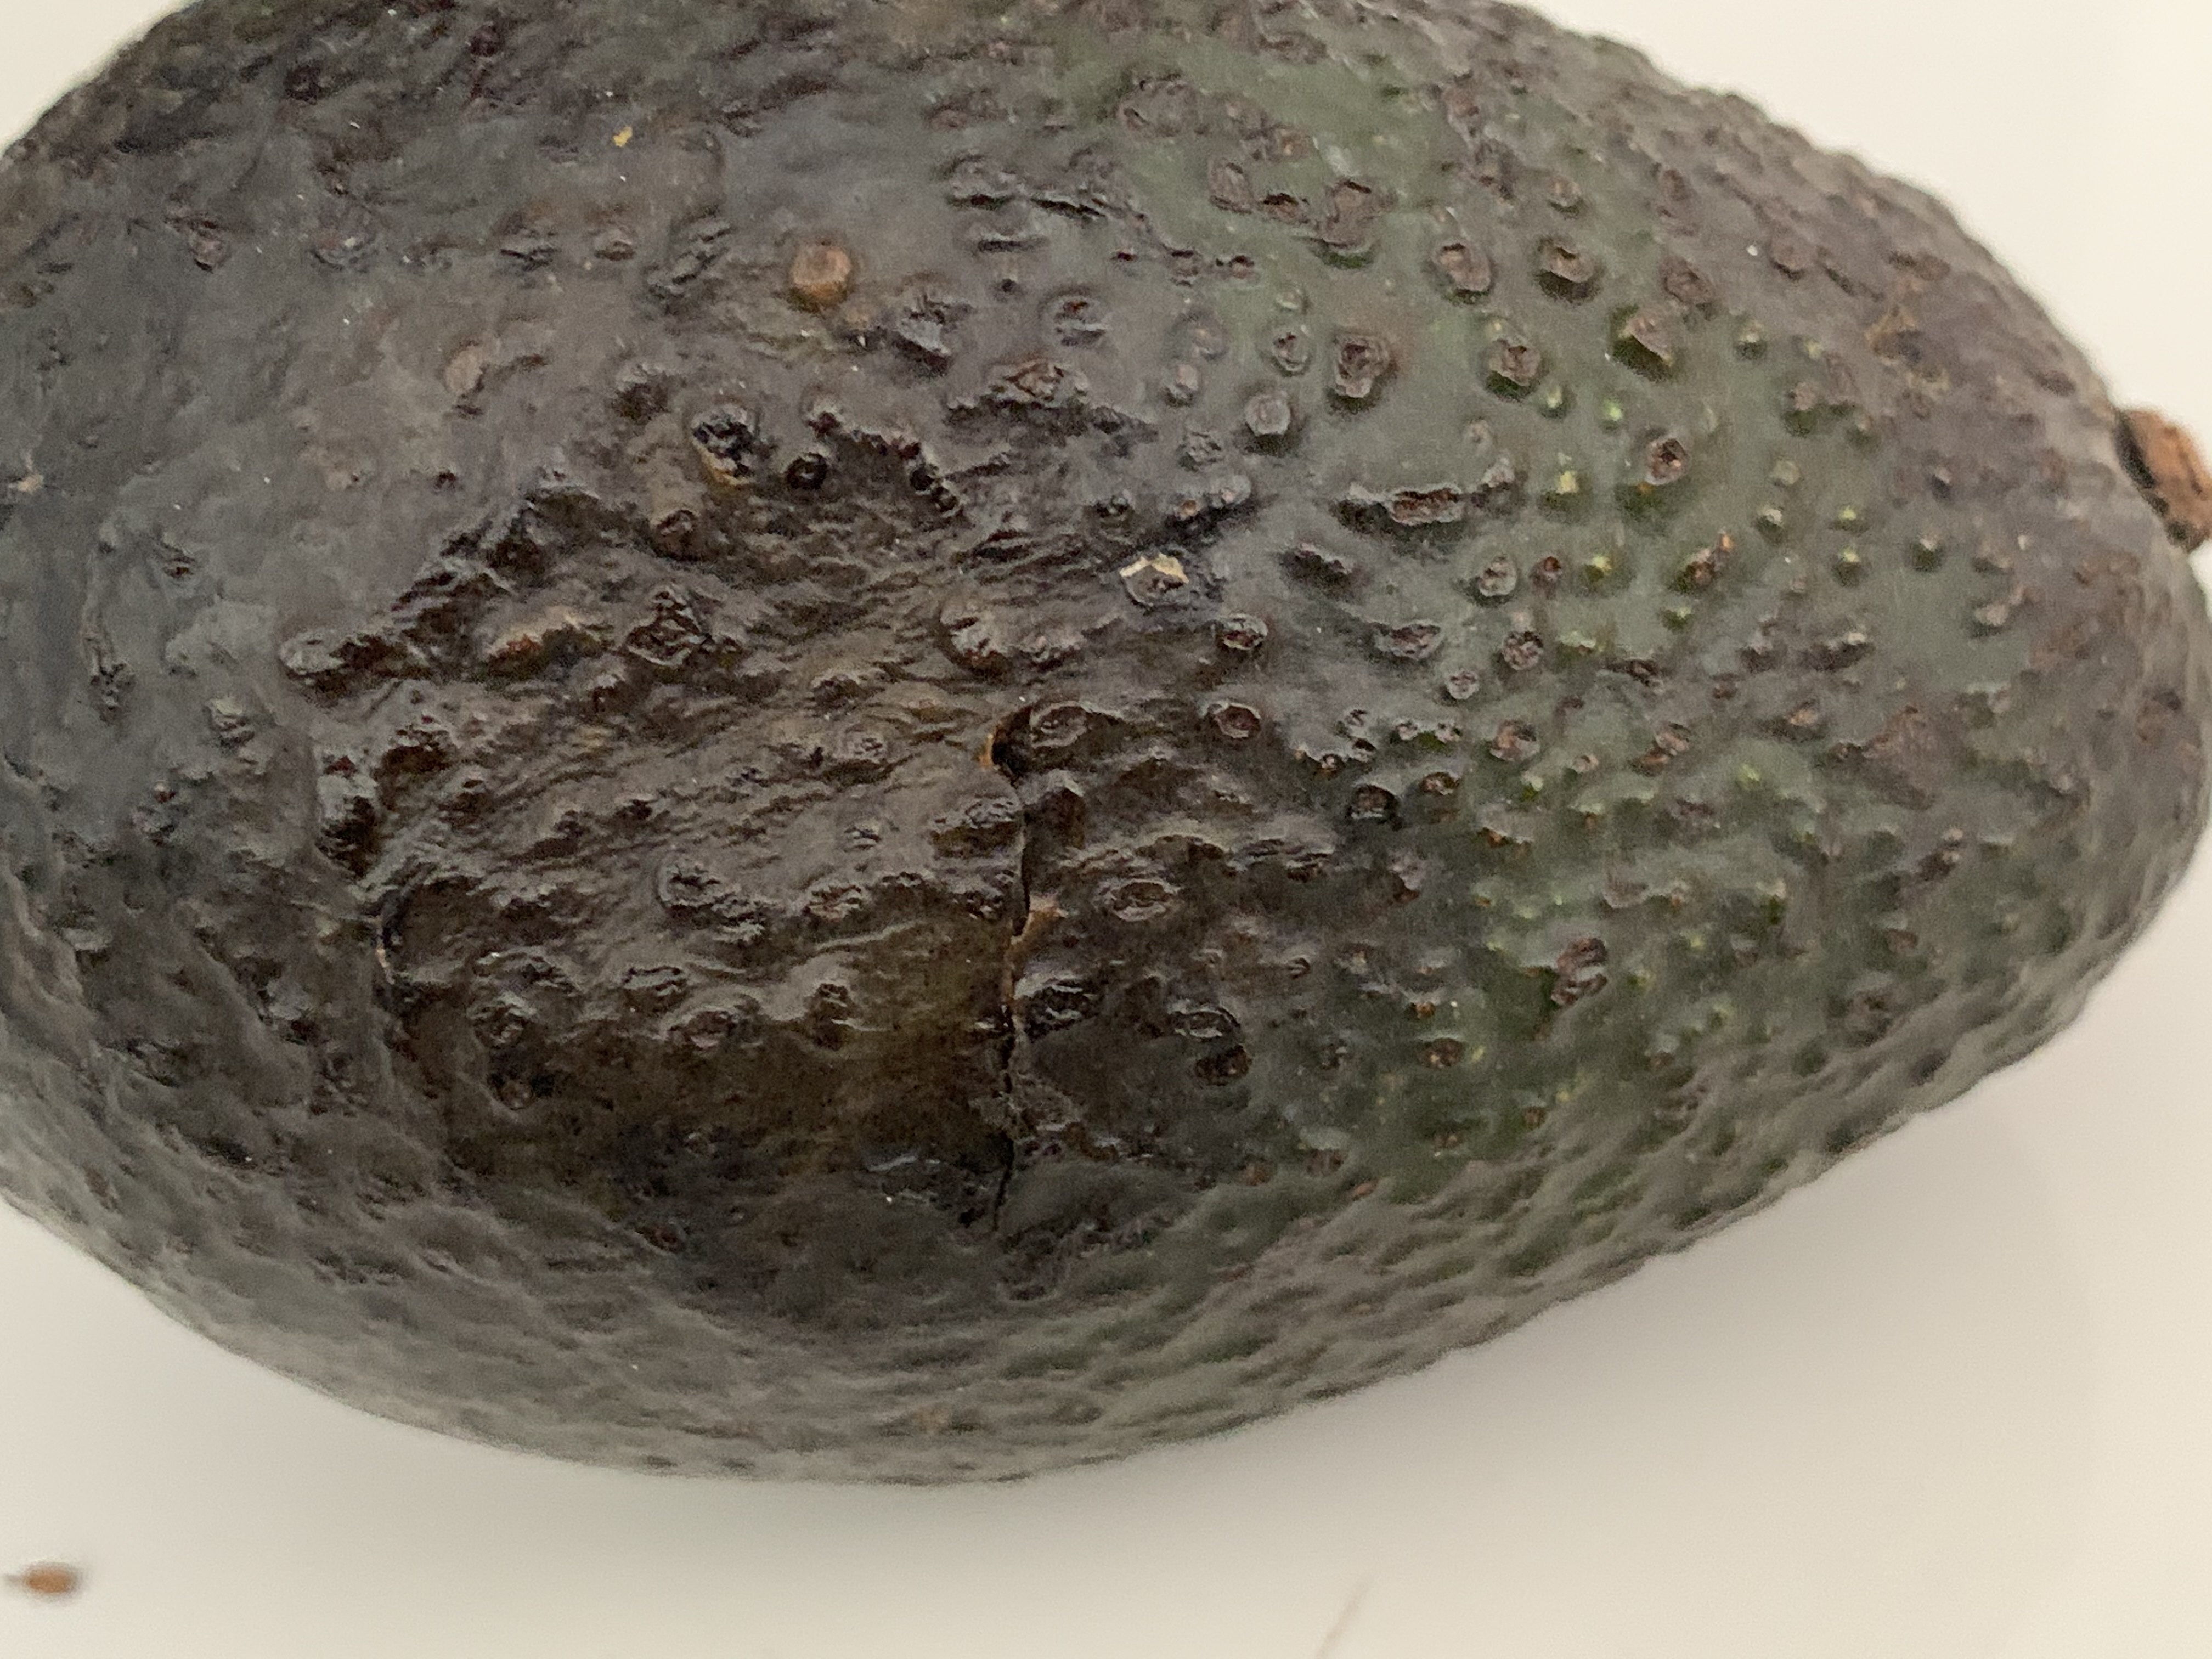avocado: (5, 2, 2212, 1497)
